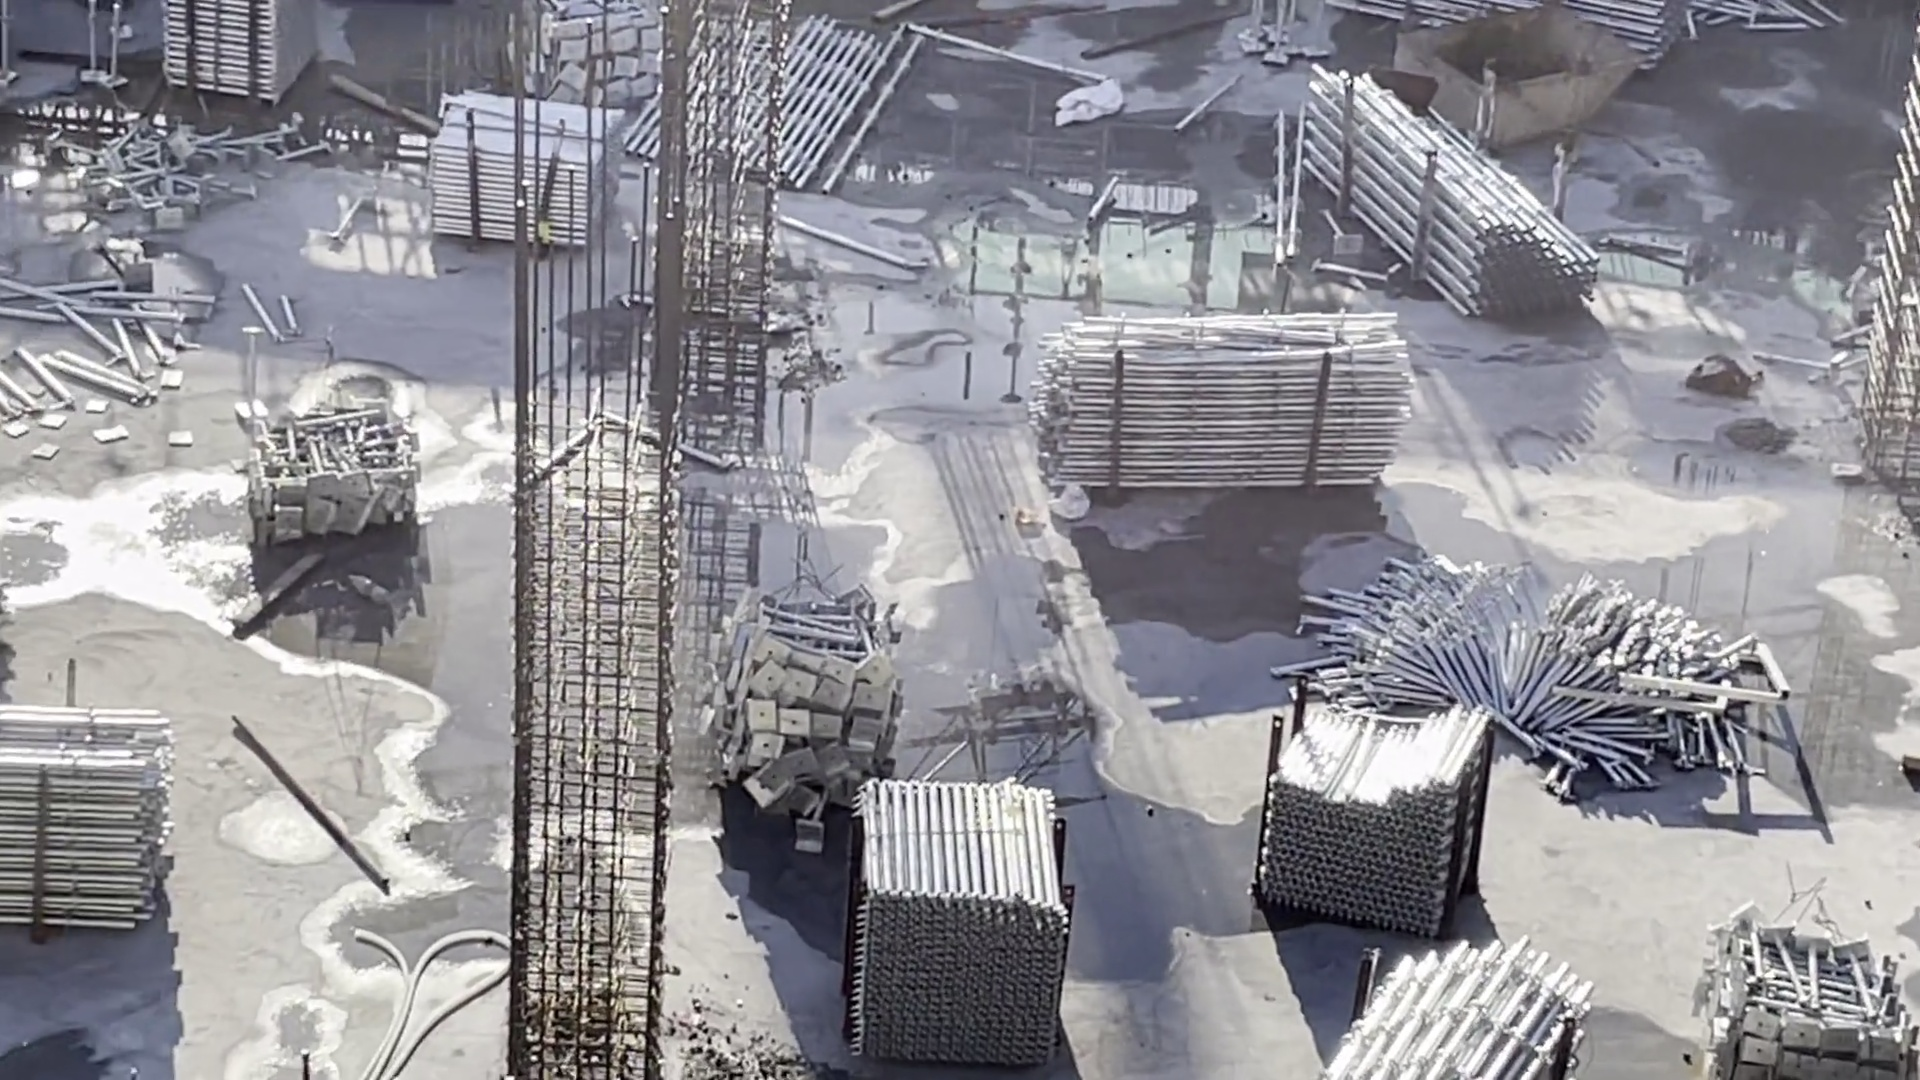hopper: (1396, 7, 1640, 146)
scaffold: (1344, 556, 1735, 778), (1044, 309, 1439, 498), (1300, 75, 1581, 328), (1236, 695, 1505, 942), (837, 771, 1059, 1060), (719, 603, 897, 847), (1, 699, 178, 928), (1325, 934, 1601, 1080), (1697, 905, 1909, 1080), (1309, 1, 1709, 80), (439, 88, 633, 247), (237, 394, 415, 527), (53, 105, 276, 207), (524, 1, 686, 116), (198, 1, 328, 100)
